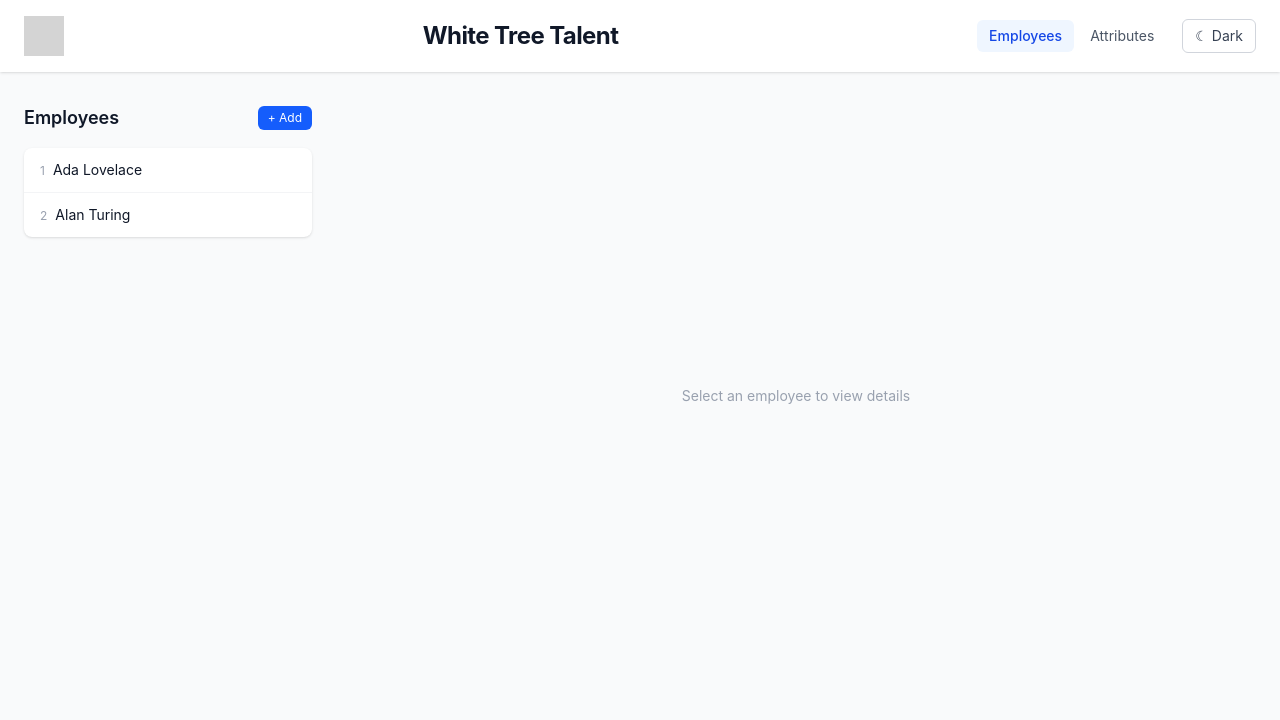
Test: Add Employee modal › closes when the × button is clicked
Expected: the button "1Ada Lovelace" is shown, [24, 148, 312, 192]
Click the button "+ Add" at (285, 118), box [258, 106, 312, 130]
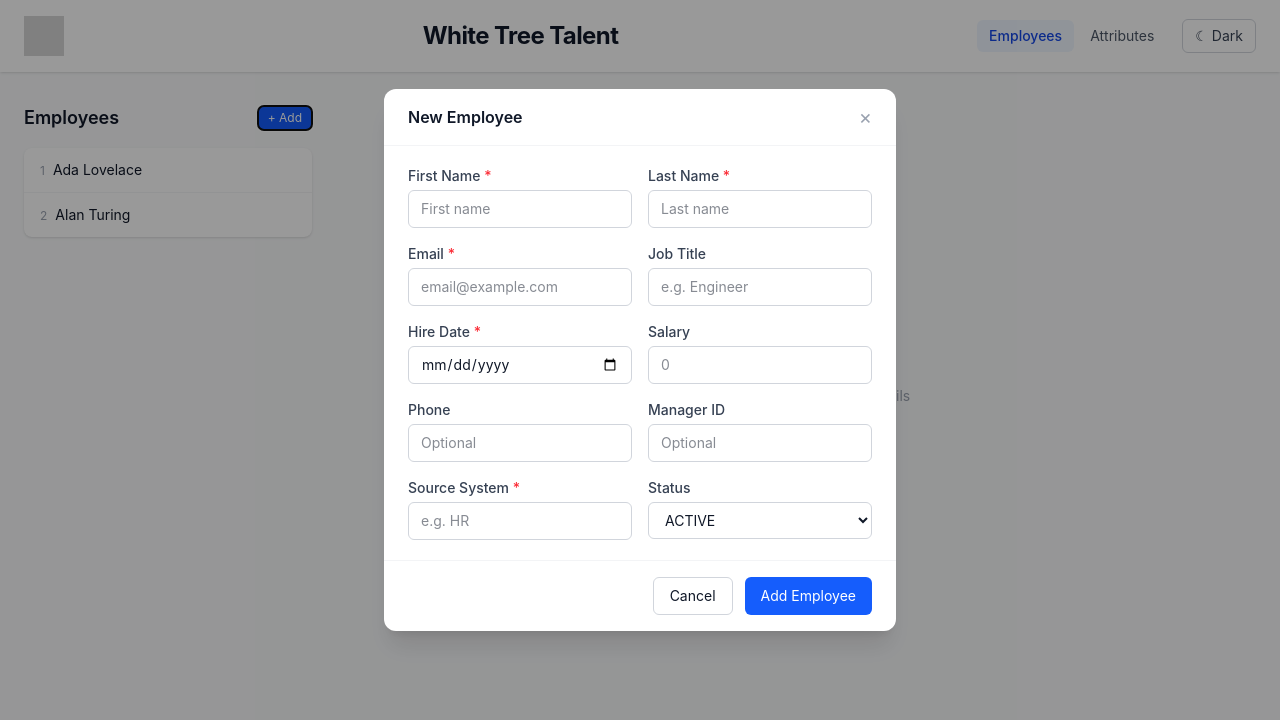
Result: the button "Add Employee" is shown at [745, 577, 872, 615]
Click the button named "Close" at (865, 117), box [859, 107, 872, 127]
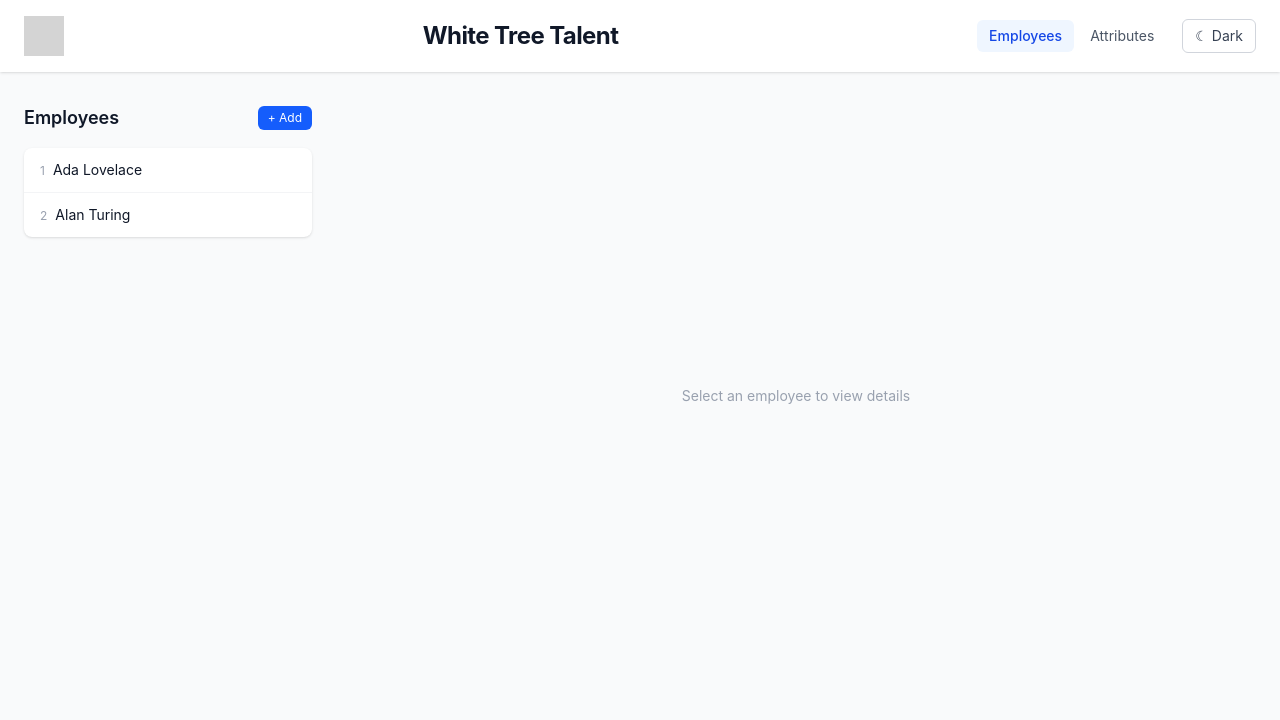
Result: the button "Add Employee" is gone
